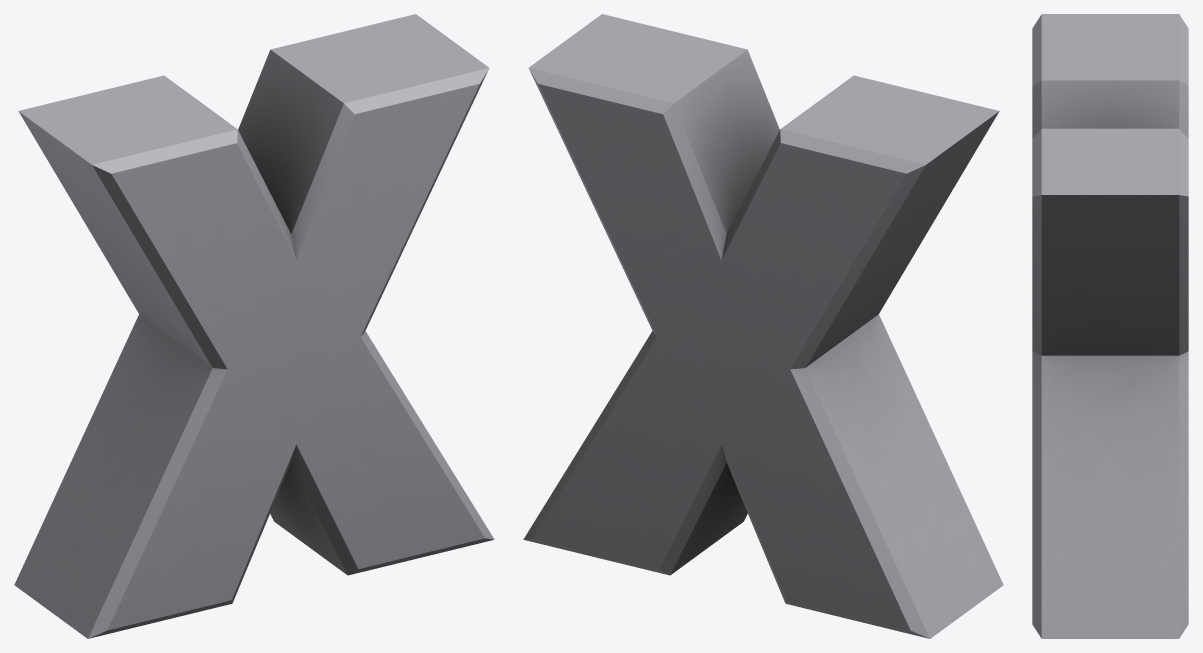
The model's file is X_static.fbx.
3 renders of one model, left to right at view 1: azimuth 30°, elevation 25°; view 2: azimuth 150°, elevation 25°; view 3: azimuth 270°, elevation 25°, orthographic. The views are drawn at different scales.
Parts seen in each view (by area): view 1: X_static; view 2: X_static; view 3: X_static.
Part boxes in pixels (x1,y1,x2,y2): X_static: [14, 14, 494, 638]; X_static: [523, 14, 1003, 638]; X_static: [1032, 14, 1188, 638].
Size of the model in its own units: 92.5 by 103 by 33.
